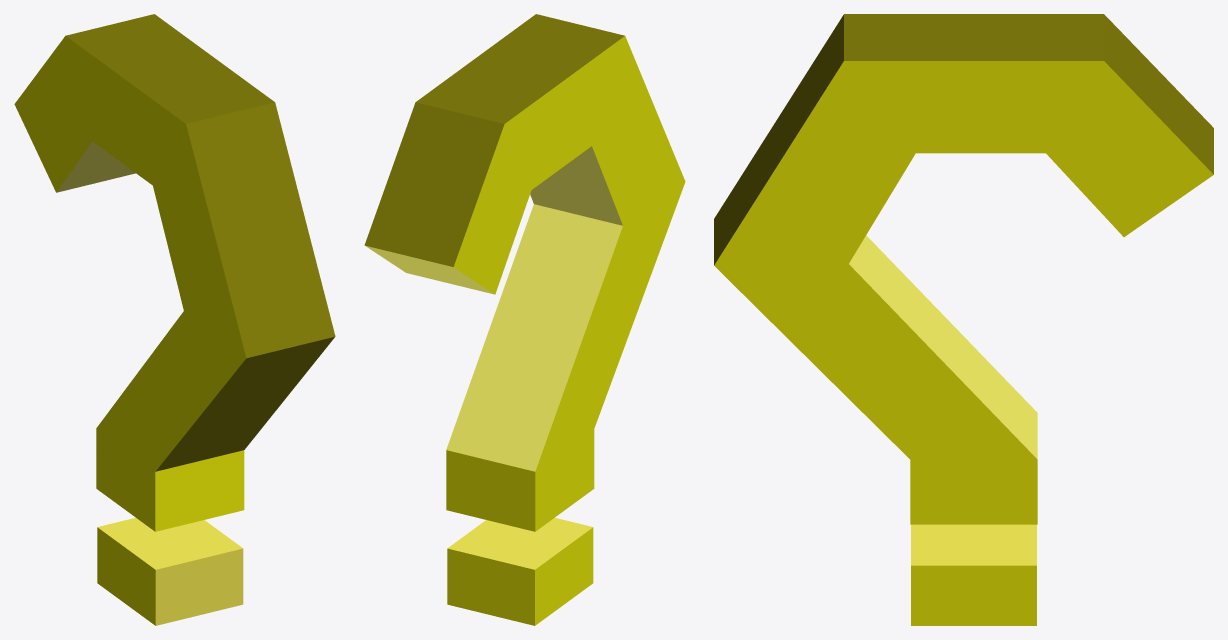
The model's file is DetectionSign_Exclamation.obj.
The picture shows the model from 3 angles, left to right: view 1: azimuth 30°, elevation 25°; view 2: azimuth 150°, elevation 25°; view 3: azimuth 270°, elevation 25°; orthographic projection. The views are drawn at different scales.
Parts seen in each view (by area): view 1: Cylinder; view 2: Cylinder; view 3: Cylinder.
Boxes of the visible parts, x1,y1,x2,y2 form: Cylinder: (14, 14, 335, 625); Cylinder: (364, 14, 685, 625); Cylinder: (714, 14, 1213, 625).
Bounding box in the file's own units: 2.32 × 13.06 × 10.46.
